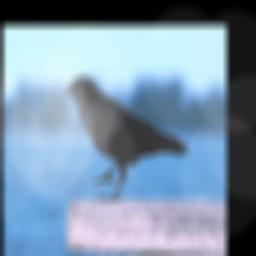Crow: (60, 72, 191, 202)
